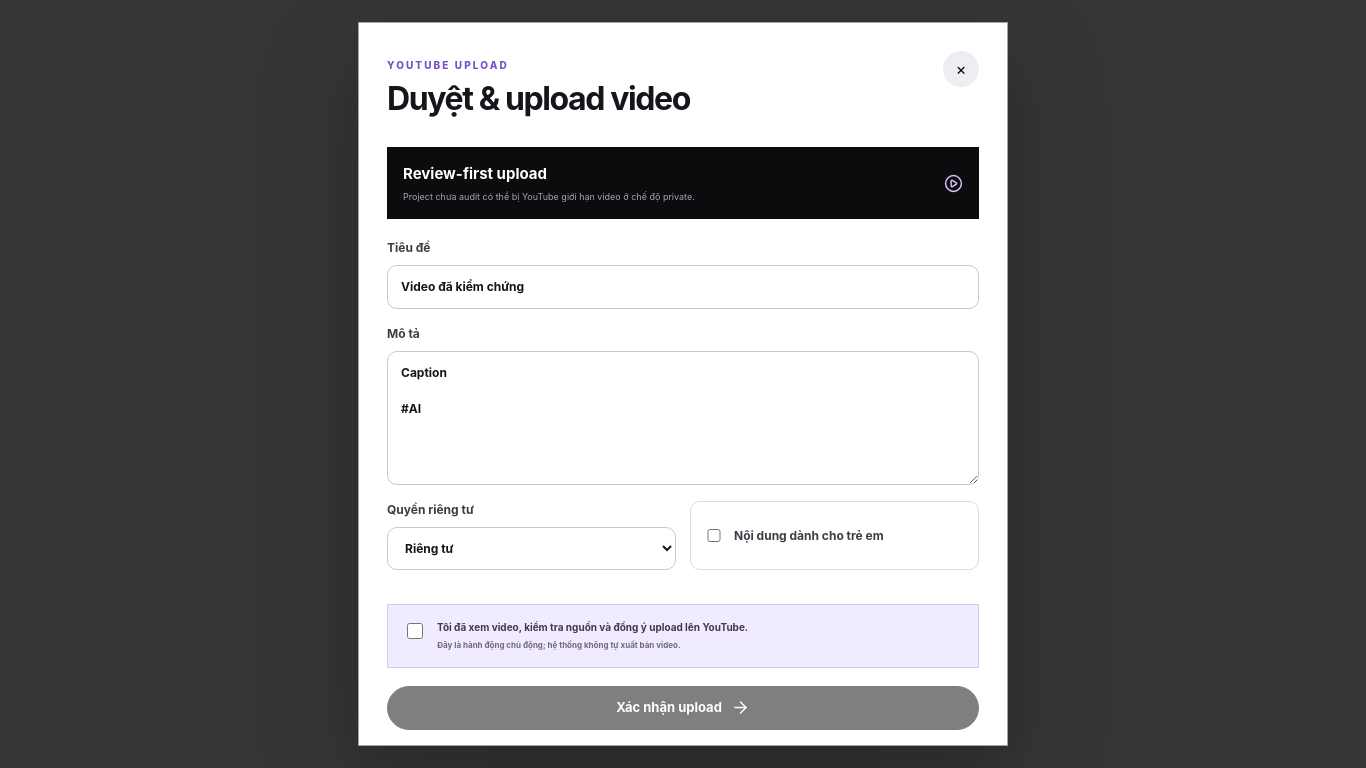
it: YouTubePublishModal › requires explicit review consent before upload
Expected: the button "Xác nhận upload" is disabled, [387, 686, 979, 730]
Click the checkbox labelled "Tôi đã xem video" at coordinates (415, 631), box [407, 623, 423, 639]
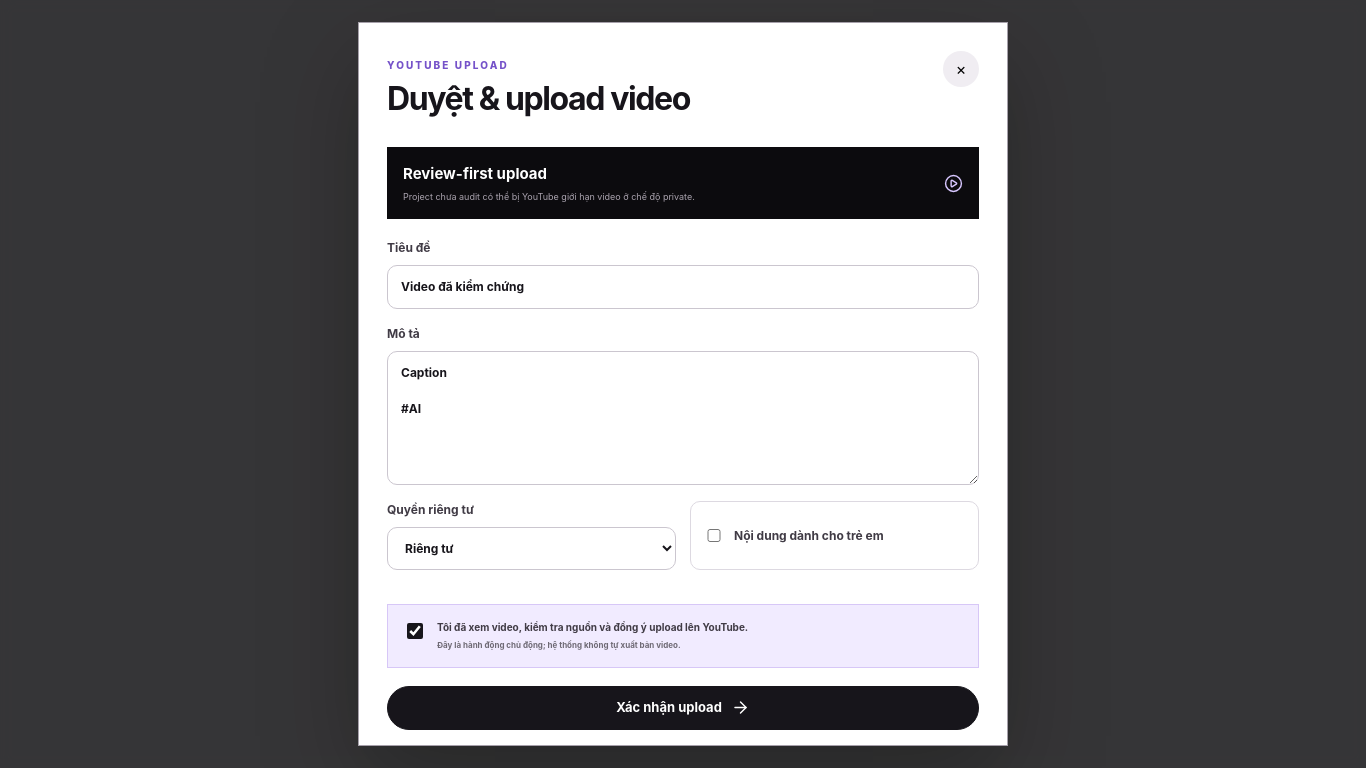
Expected: the button "Xác nhận upload" is enabled, [387, 686, 979, 730]
